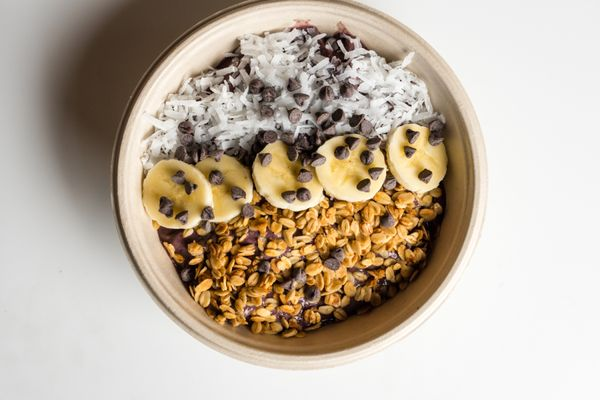sushi: (110, 2, 486, 372)
